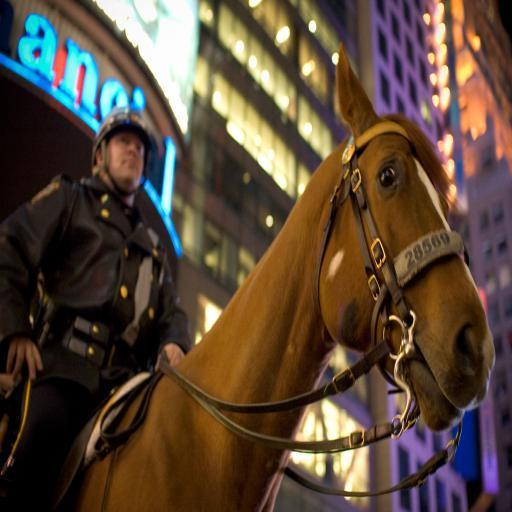horse: (1, 38, 497, 512)
